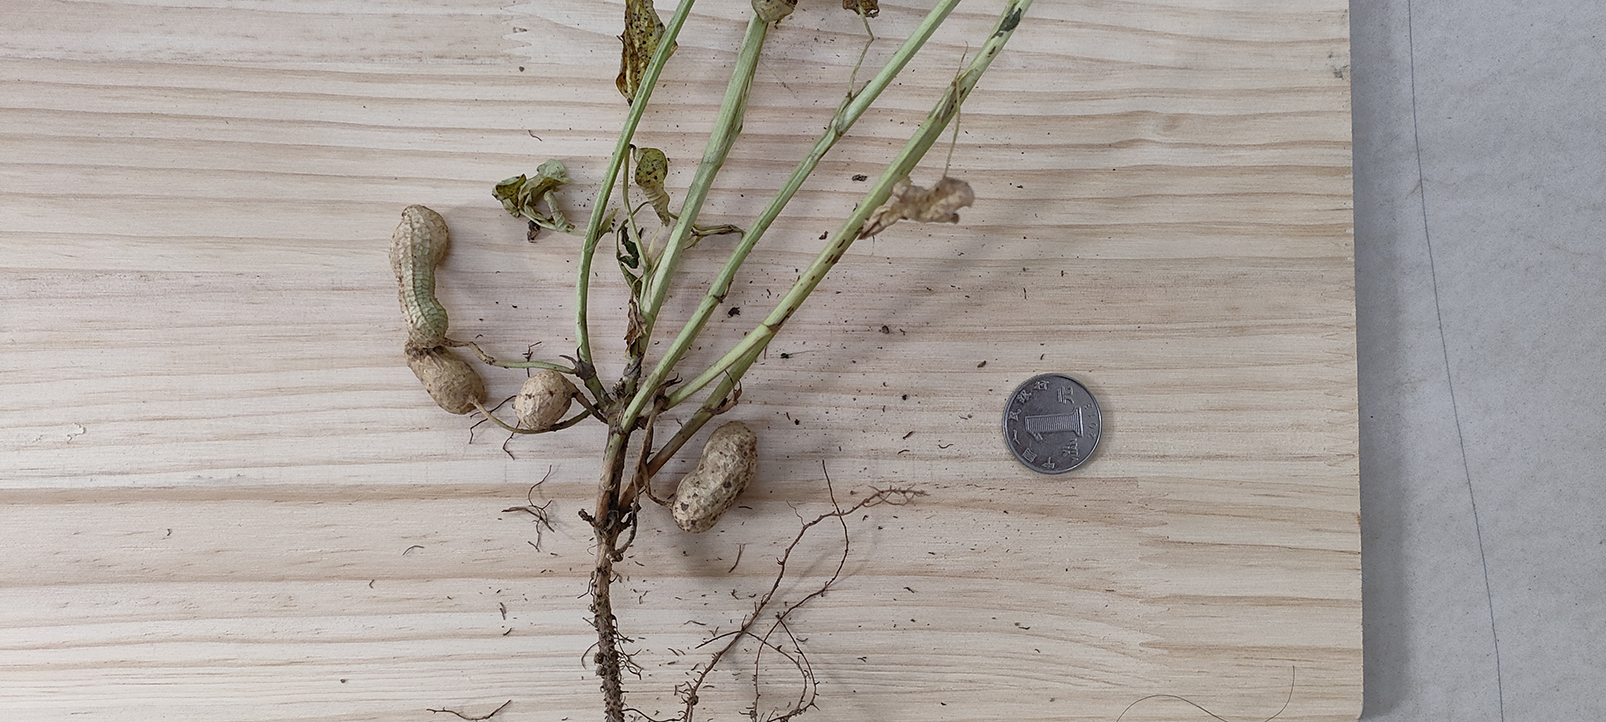h: (670, 420, 756, 530), (386, 204, 451, 350), (403, 345, 485, 413), (513, 371, 570, 431)
